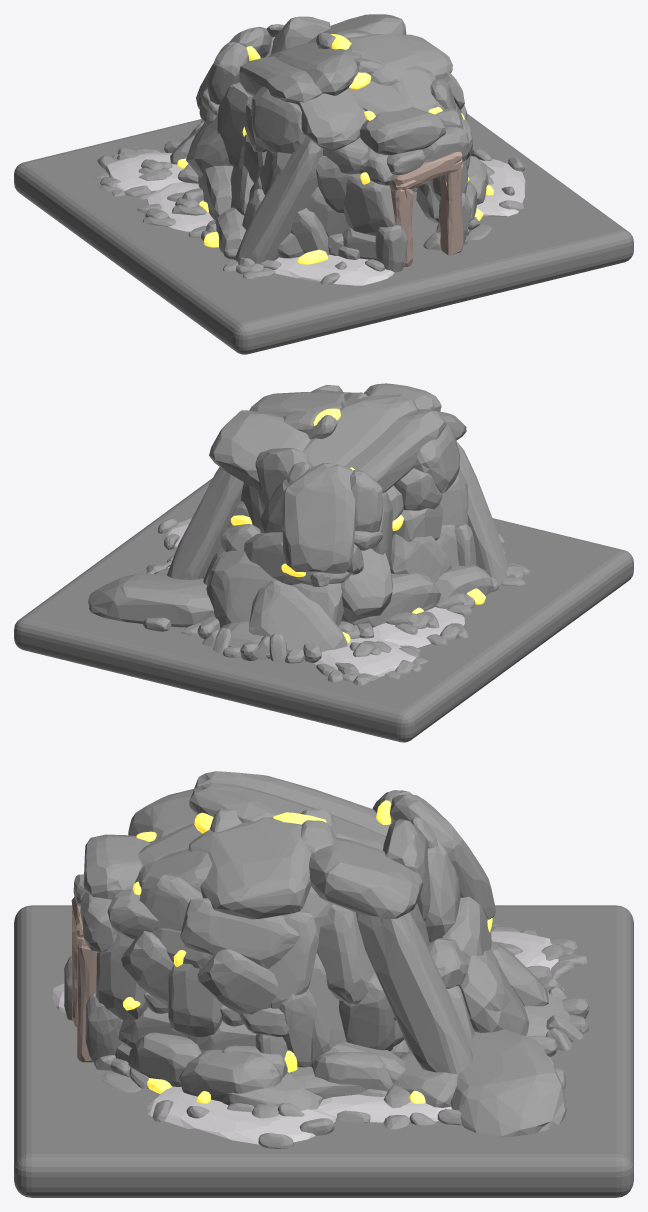
3 views of the same model, one above another, from view 1: azimuth 30°, elevation 25°; view 2: azimuth 150°, elevation 25°; view 3: azimuth 270°, elevation 25° (orthographic). The views are drawn at different scales.
Parts seen in each view (by area): view 1: Plane.001, Cube.058, Cube.134, Cube.045, Cube.048, Cube.061, Cube.132, Cube.131, Cube.036, Cube.084, KapiSag, Cube.071 (+29 smaller); view 2: Plane.001, Cube.062, Cube.081, Cube.063, Cube.086, Cube.133, Cube.079, Cube.132, Cube.131, Cube.060, Cube.058, Cube.196 (+21 smaller); view 3: Plane.001, Cube.079, Cube.081, Cube.134, Cube.133, Cube.160, Cube.085, Cube.057, Cube.063, Cube.132, Cube.042, Cube.140 (+39 smaller).
Part boxes in pixels (bbox=[...]): Plane.001: bbox=[14, 113, 633, 354]; Cube.058: bbox=[234, 136, 322, 263]; Cube.134: bbox=[346, 34, 452, 85]; Cube.045: bbox=[360, 107, 445, 155]; Cube.048: bbox=[297, 89, 366, 152]; Cube.061: bbox=[251, 86, 305, 153]; Cube.132: bbox=[268, 42, 361, 95]; Cube.131: bbox=[239, 56, 323, 104]; Cube.036: bbox=[343, 173, 395, 235]; Cube.084: bbox=[274, 254, 394, 285]; KapiSag: bbox=[440, 163, 463, 255]; Cube.071: bbox=[217, 82, 253, 166]; Plane.001: bbox=[14, 478, 633, 742]; Cube.062: bbox=[282, 463, 355, 573]; Cube.081: bbox=[88, 573, 214, 627]; Cube.063: bbox=[206, 550, 343, 627]; Cube.086: bbox=[249, 580, 347, 653]; Cube.133: bbox=[209, 410, 310, 490]; Cube.079: bbox=[167, 467, 243, 579]; Cube.132: bbox=[302, 394, 418, 467]; Cube.131: bbox=[344, 409, 446, 492]; Cube.060: bbox=[340, 548, 392, 622]; Cube.058: bbox=[456, 441, 508, 585]; Cube.196: bbox=[389, 534, 452, 584]; Plane.001: bbox=[14, 905, 633, 1197]; Cube.079: bbox=[356, 912, 472, 1074]; Cube.081: bbox=[450, 1029, 566, 1137]; Cube.134: bbox=[188, 817, 311, 919]; Cube.133: bbox=[309, 837, 423, 918]; Cube.160: bbox=[180, 898, 299, 969]; Cube.085: bbox=[146, 1086, 335, 1144]; Cube.057: bbox=[316, 904, 374, 1004]; Cube.063: bbox=[459, 940, 529, 1035]; Cube.132: bbox=[189, 783, 385, 850]; Cube.042: bbox=[179, 1049, 282, 1101]; Cube.140: bbox=[197, 949, 278, 1014].
Bounding box in the file's own units: 36.12 × 16.98 × 36.12.
